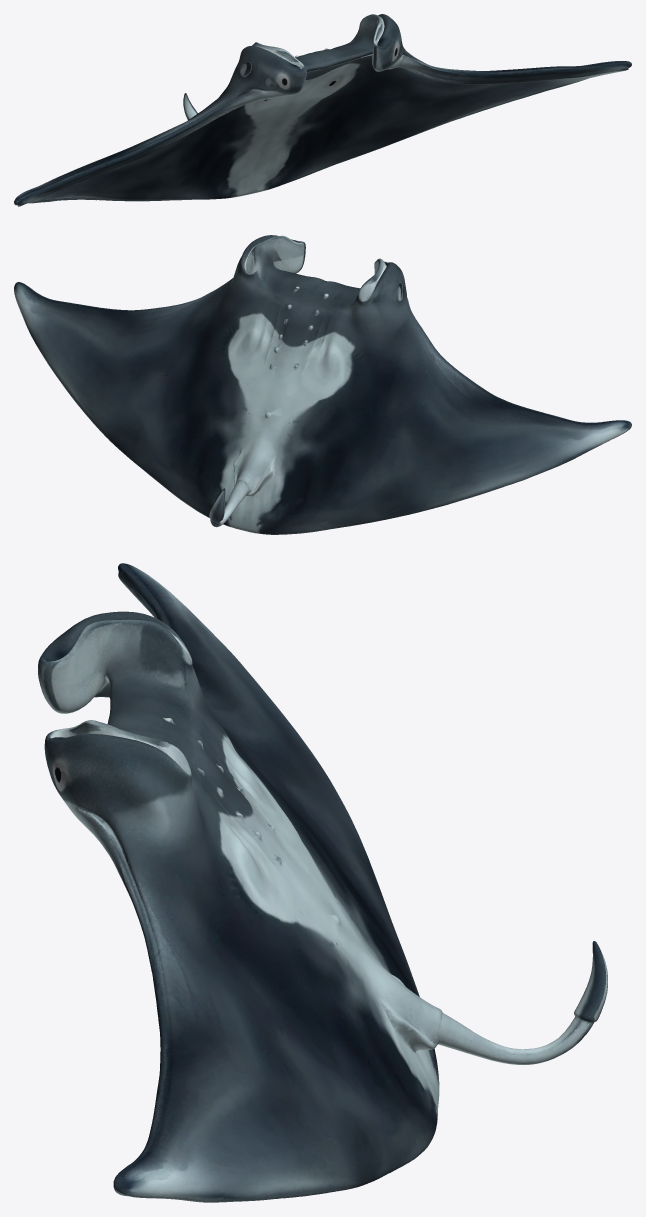
Rendered from manta.glb.
3 views of the same model, one above another, from view 1: azimuth 30°, elevation 25°; view 2: azimuth 150°, elevation 25°; view 3: azimuth 270°, elevation 25° (orthographic). The views are drawn at different scales.
Bounding box in the file's own units: 1.9 × 0.6509 × 0.7635.
Materials: 1 (1 with a texture image).
